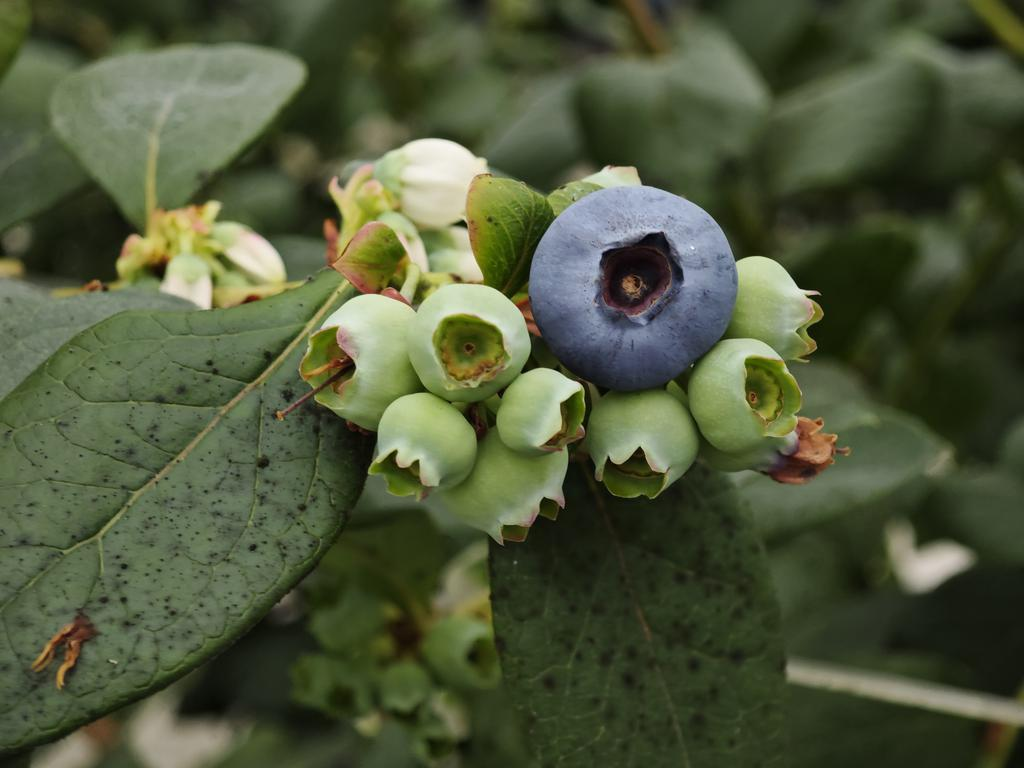RipeBlueBerry: (525, 181, 741, 396)
